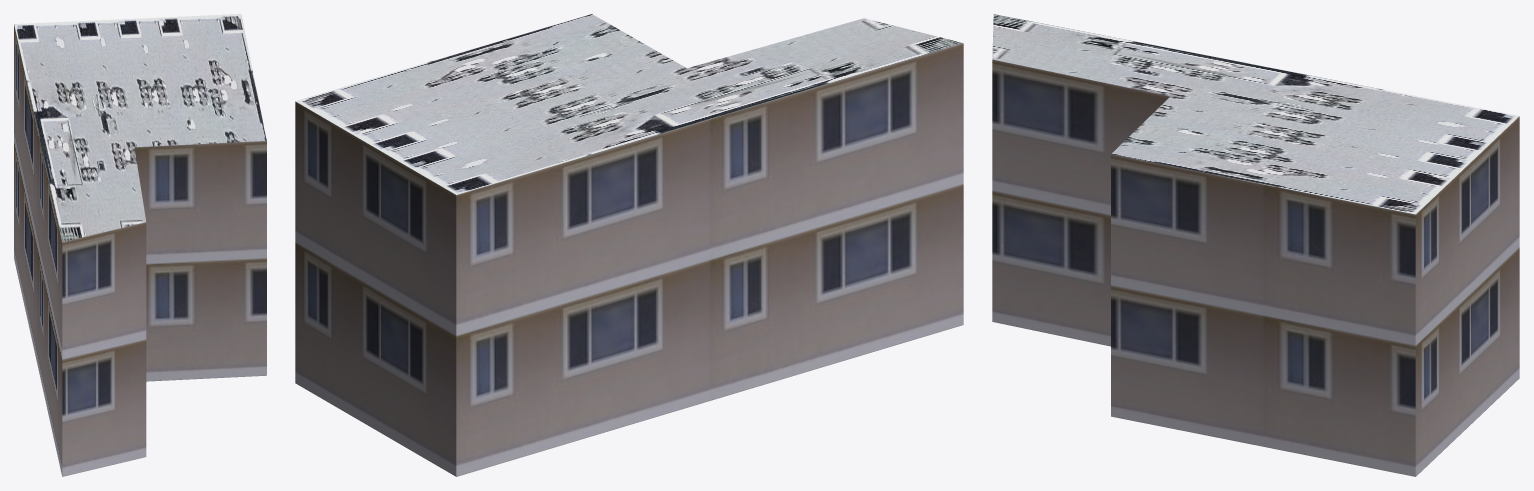
File: ResTex__4575.fbx
3 views of the same model, side by side, from view 1: azimuth 30°, elevation 25°; view 2: azimuth 150°, elevation 25°; view 3: azimuth 270°, elevation 25° (orthographic). The views are drawn at different scales.
Parts seen in each view (by area): view 1: CityEngineMaterial_21_m, CityEngineMaterial_8_m; view 2: CityEngineMaterial_21_m, CityEngineMaterial_8_m; view 3: CityEngineMaterial_21_m, CityEngineMaterial_8_m.
Boxes of the visible parts, x1,y1,x2,y2 form: CityEngineMaterial_21_m: [14, 24, 266, 476]; CityEngineMaterial_8_m: [14, 14, 266, 241]; CityEngineMaterial_21_m: [295, 43, 963, 476]; CityEngineMaterial_8_m: [296, 14, 963, 194]; CityEngineMaterial_21_m: [992, 59, 1519, 476]; CityEngineMaterial_8_m: [992, 14, 1519, 214].
Bounding box in the file's own units: 9.84 × 6 × 10.93.
2 materials, 2 textured.
